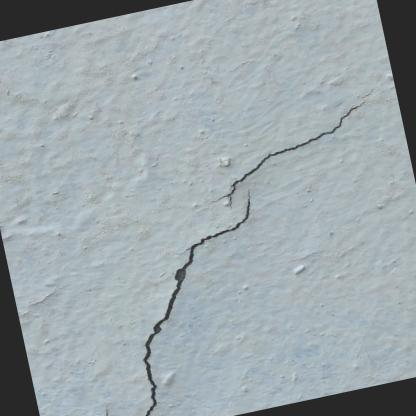crack: (140, 190, 251, 416), (212, 102, 364, 203)
